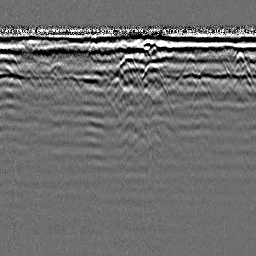cavity: (118, 52, 138, 68)
